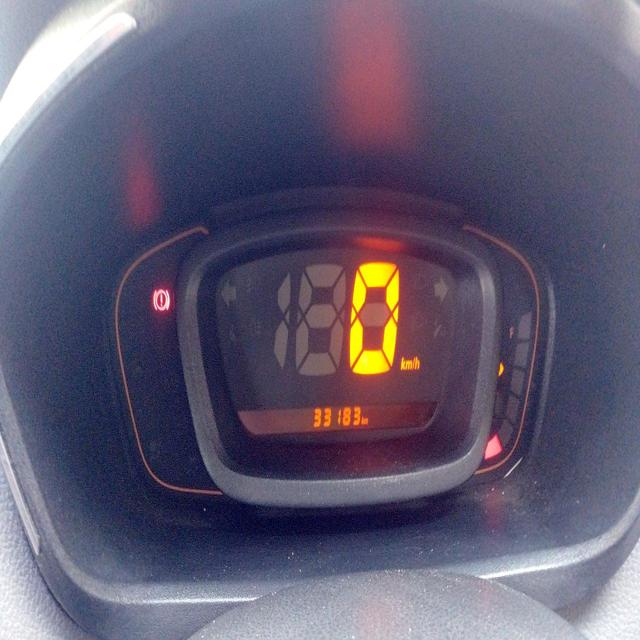odometer: (312, 400, 362, 431)
